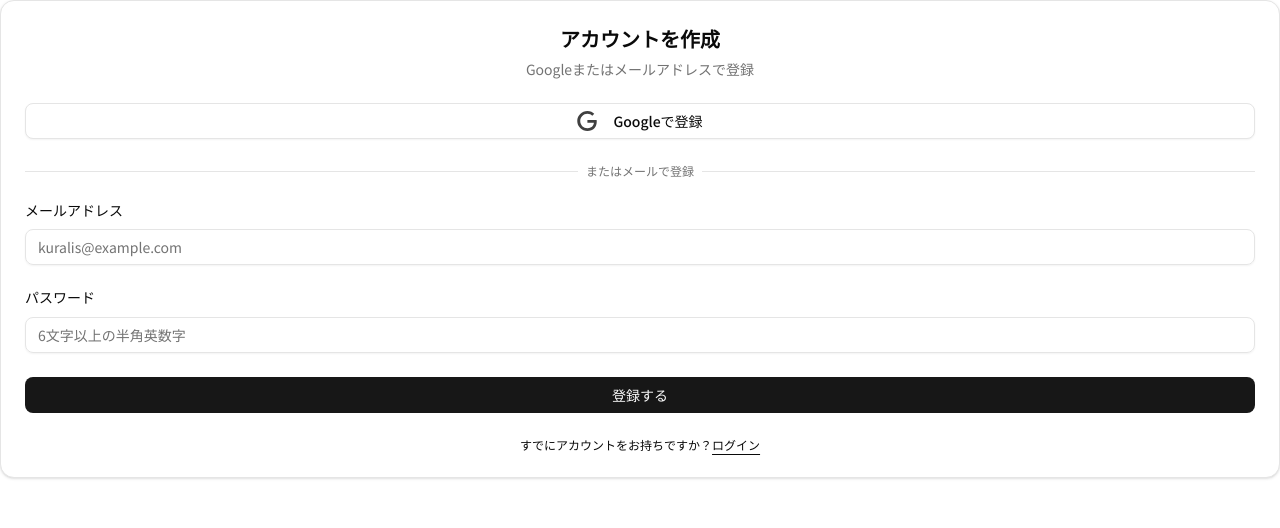
SignupForm › フォームバリデーション › パスワードが空の場合、エラーメッセージが表示される
Step 1. Type "test@example.com" into the field labelled "メールアドレス" → (640,247), box [25,229,1255,265]
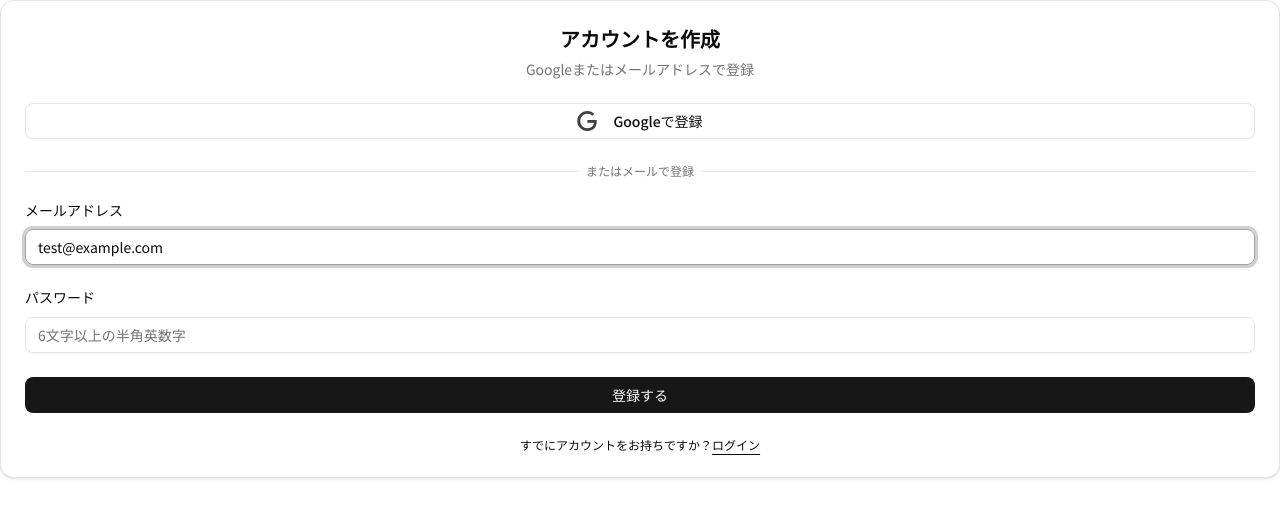
Step 2. Click the button "登録する" → (640,395), box [25,377,1255,413]
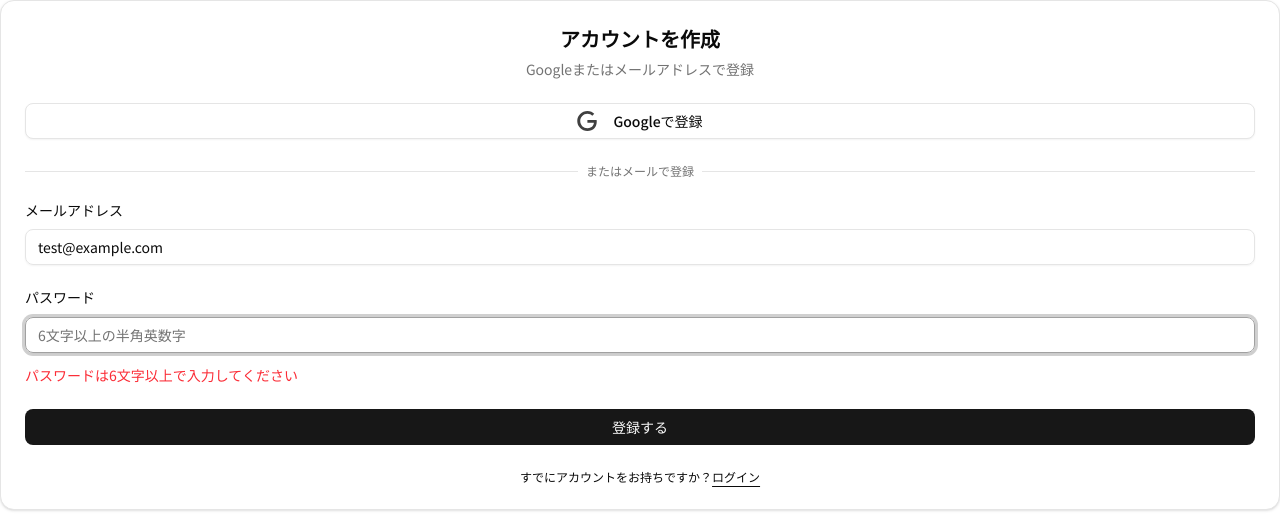
expect the text "パスワードは6文字以上で入力してください" is shown: met, box [25,365,298,385]
